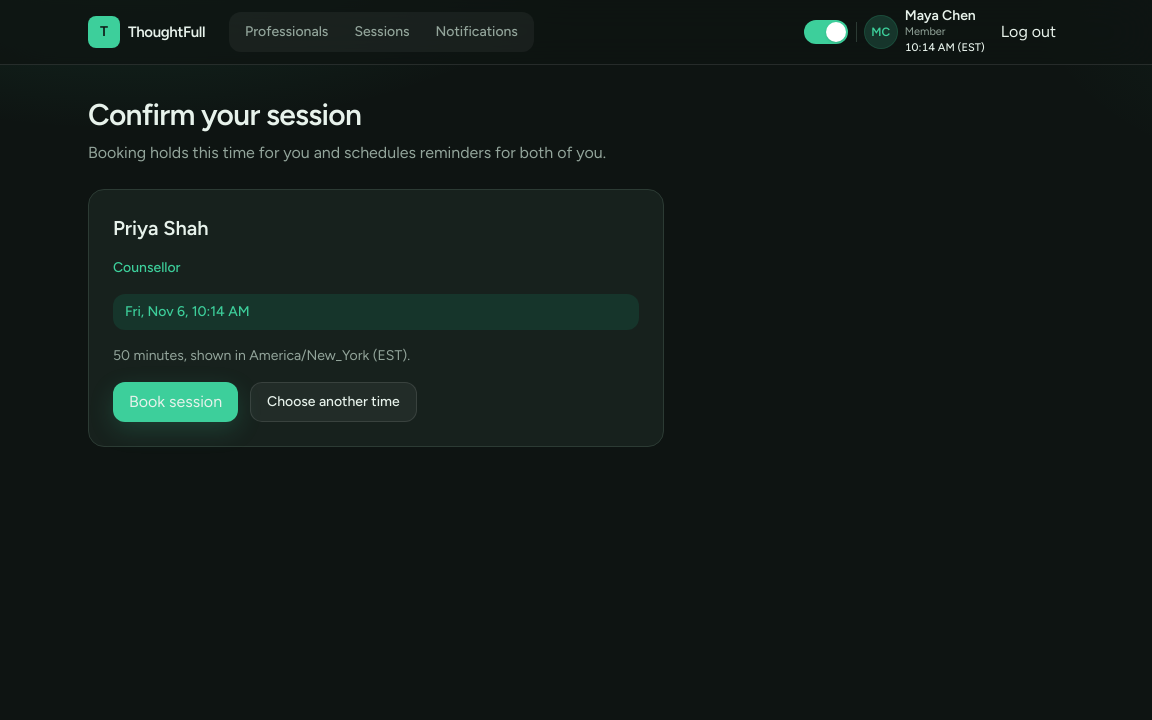
Test: booking screens › stays on confirmation when the slot was just taken
Click the button "Book session". click: (176, 402)
box: [113, 382, 238, 422]
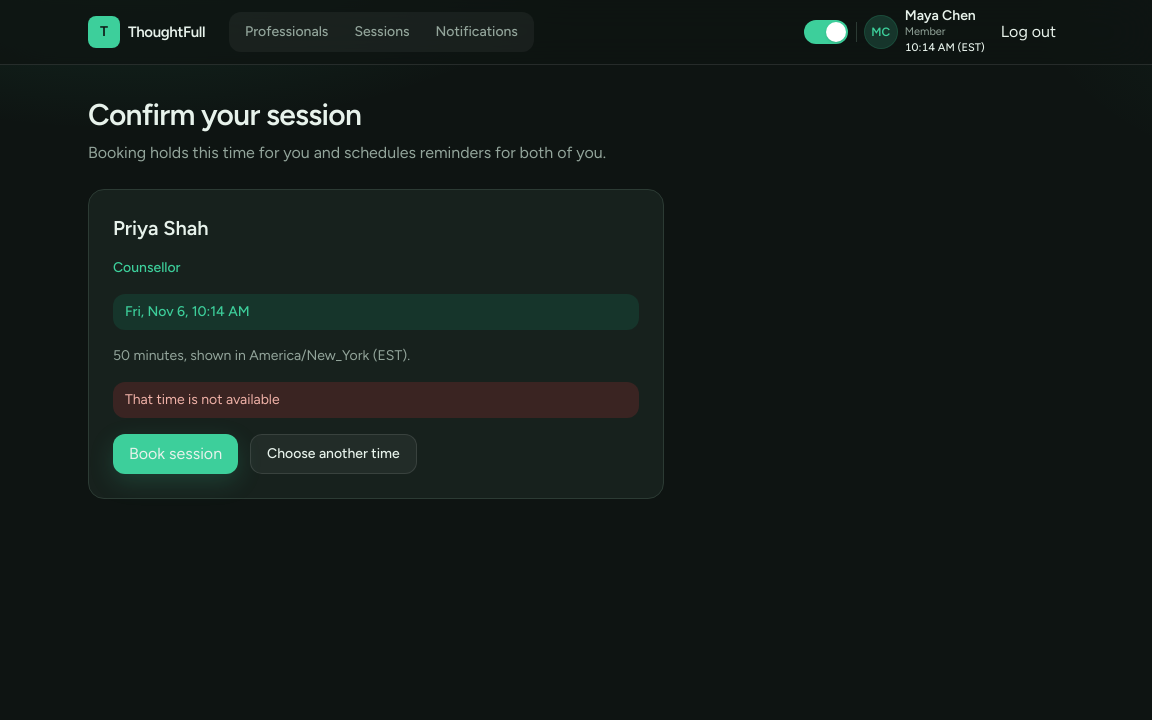
Expected: the heading "Confirm your session" is shown, [88, 96, 361, 133]
Result: the message reads "That time is not available" at [125, 391, 280, 408]
